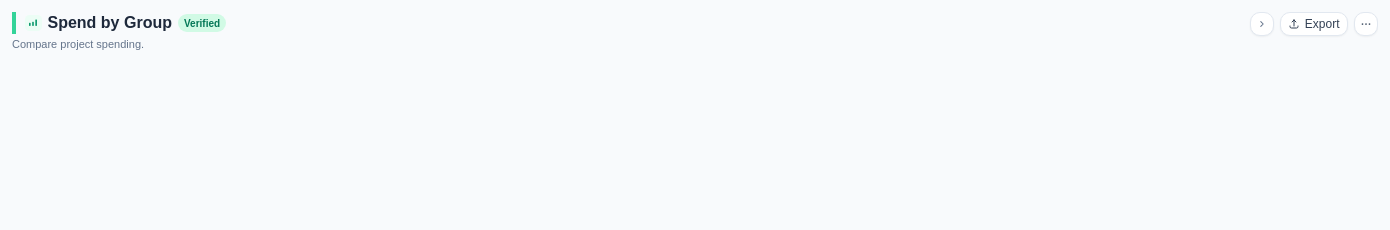
Test case: AnalysisCardHeader › does not offer chart controls or chart-only export for table-only evidence
Click the button with aria-label "export chart or data" at (1314, 24), box x1=1280 y1=12 x2=1348 y2=36
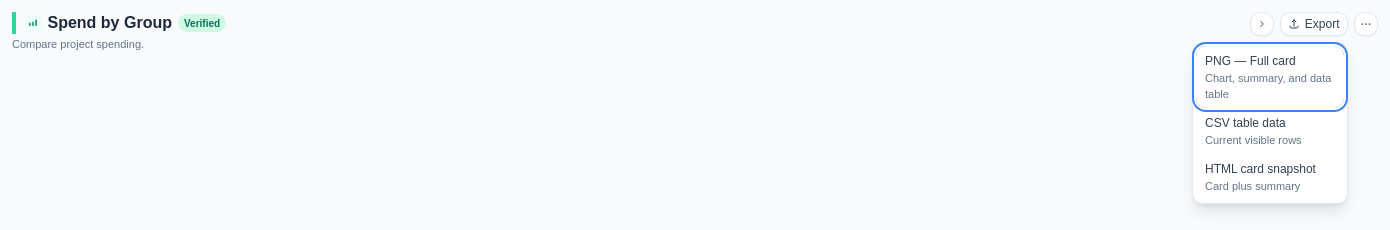
expect the menu item "PNG — Full card Chart, summary, and data table" is shown: met, box x1=1196 y1=46 x2=1344 y2=108
expect the menu item "CSV table data Current visible rows" is shown: met, box x1=1196 y1=108 x2=1344 y2=154
